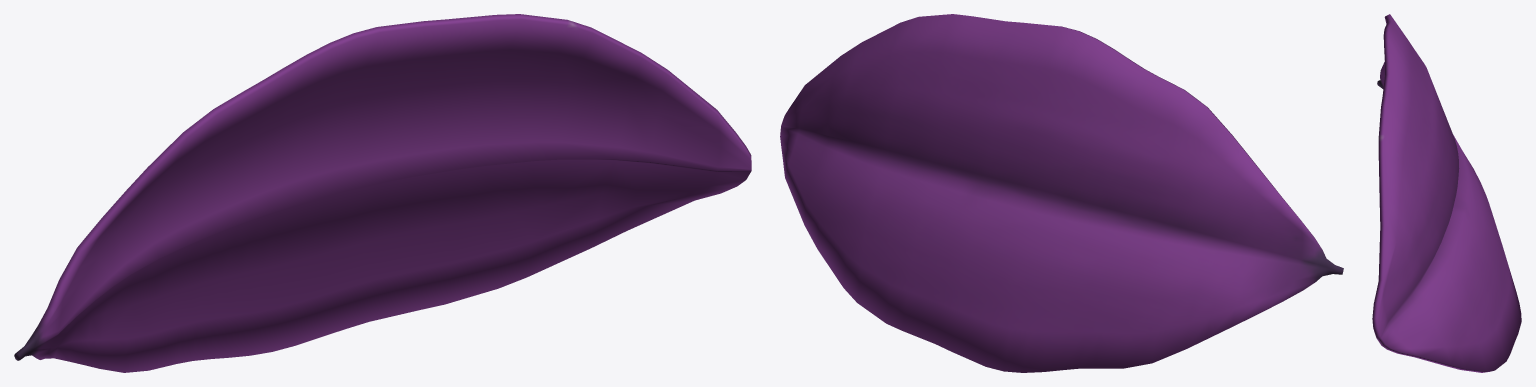
Rendered from FolhaSombria.fbx.
3 views of the same model, side by side, from view 1: azimuth 30°, elevation 25°; view 2: azimuth 150°, elevation 25°; view 3: azimuth 270°, elevation 25° (orthographic). The views are drawn at different scales.
Visible parts, largest first — view 1: Folha da Floresta; view 2: Folha da Floresta; view 3: Folha da Floresta.
Boxes of the visible parts, x1=… form: Folha da Floresta: x1=14, y1=14, x2=751, y2=372; Folha da Floresta: x1=780, y1=14, x2=1343, y2=372; Folha da Floresta: x1=1372, y1=14, x2=1521, y2=372.
Size of the model in its own units: 239 by 119 by 57.21.
